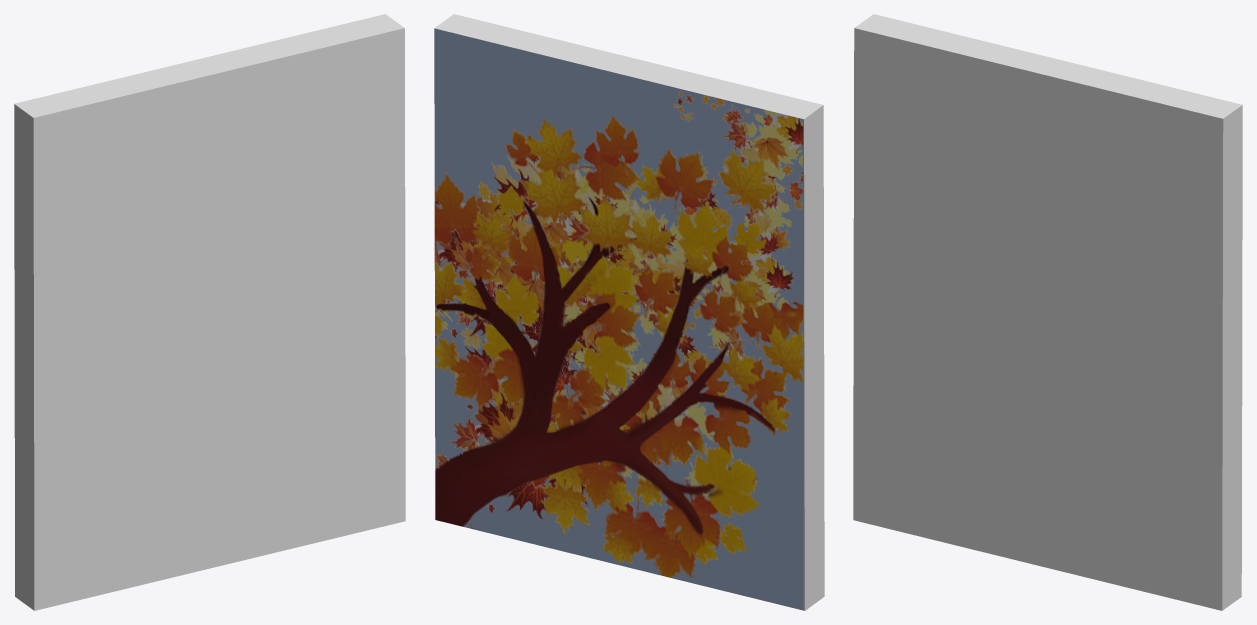
The model's file is frl_apartment_picture_02.glb.
3 renders of one model, left to right at view 1: azimuth 30°, elevation 25°; view 2: azimuth 150°, elevation 25°; view 3: azimuth 330°, elevation 25°, orthographic.
Visible parts, largest first — view 1: frl_apartment_picture_02; view 2: frl_apartment_picture_02; view 3: frl_apartment_picture_02.
Part boxes in pixels (x1,y1,x2,y2): frl_apartment_picture_02: (14,14,405,610); frl_apartment_picture_02: (434,14,824,610); frl_apartment_picture_02: (853,14,1242,610).
Size of the model in its own units: 0.4005 by 0.5085 by 0.0398.
Materials: 1 (1 with a texture image).
